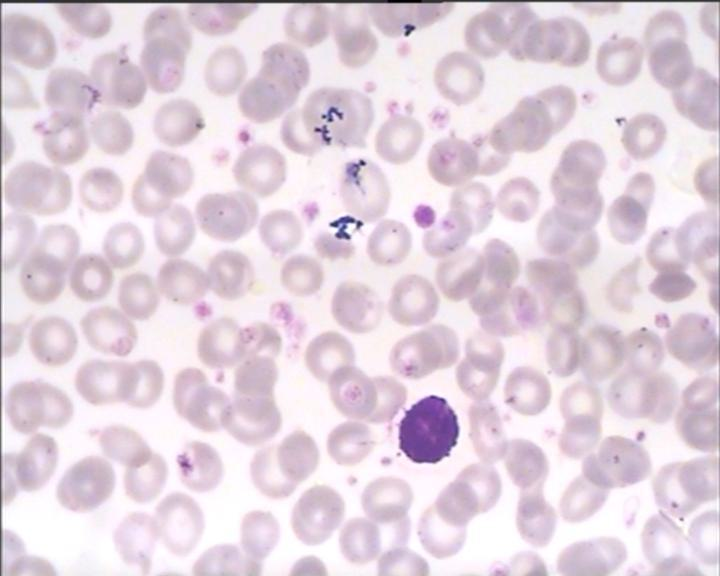baso: (392, 390, 462, 469)
